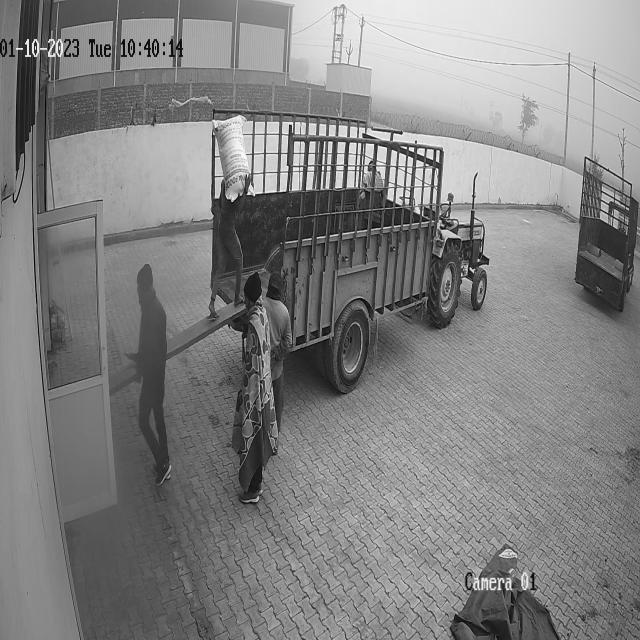sack: (212, 116, 255, 202)
